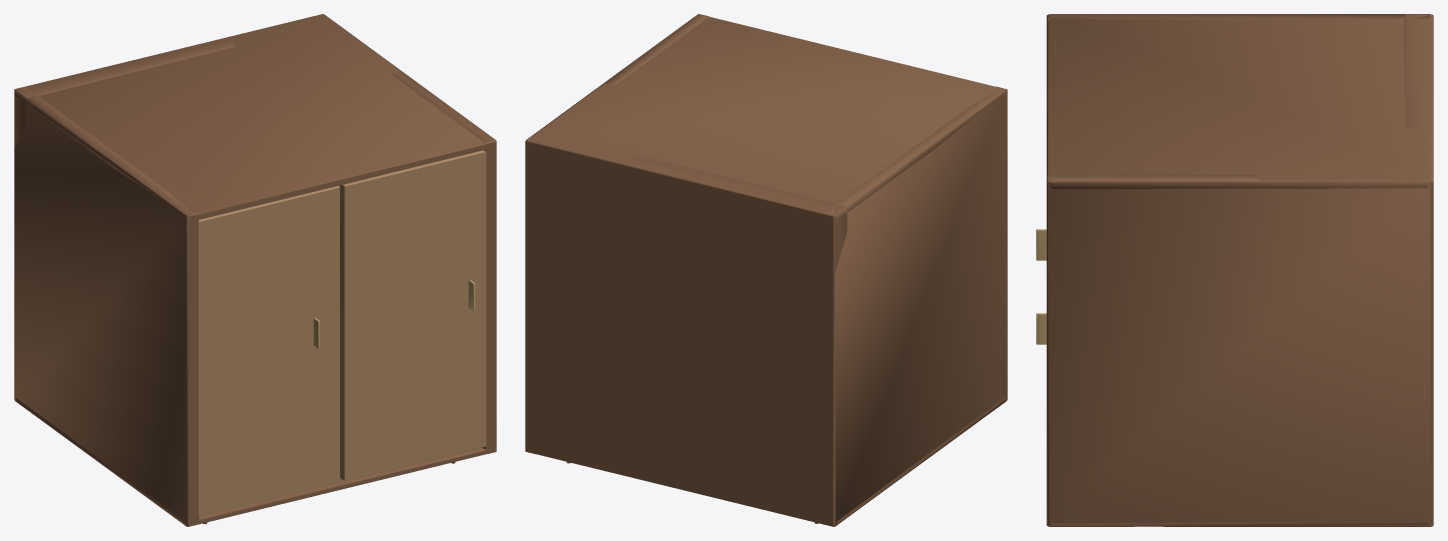
The model's file is cabinet-3-3.lod.glb.
3 views of the same model, side by side, from view 1: azimuth 30°, elevation 25°; view 2: azimuth 150°, elevation 25°; view 3: azimuth 270°, elevation 25° (orthographic). The views are drawn at different scales.
Parts seen in each view (by area): view 1: part, upholstery; view 2: part; view 3: part, upholstery.
Part boxes in pixels (x1,y1,x2,y2): part: (14,14,496,526); upholstery: (198,150,486,516); part: (525,14,1007,526); part: (1046,14,1433,526); upholstery: (1036,229,1046,344).
Bounding box in the file's own units: 1 × 1 × 1.
